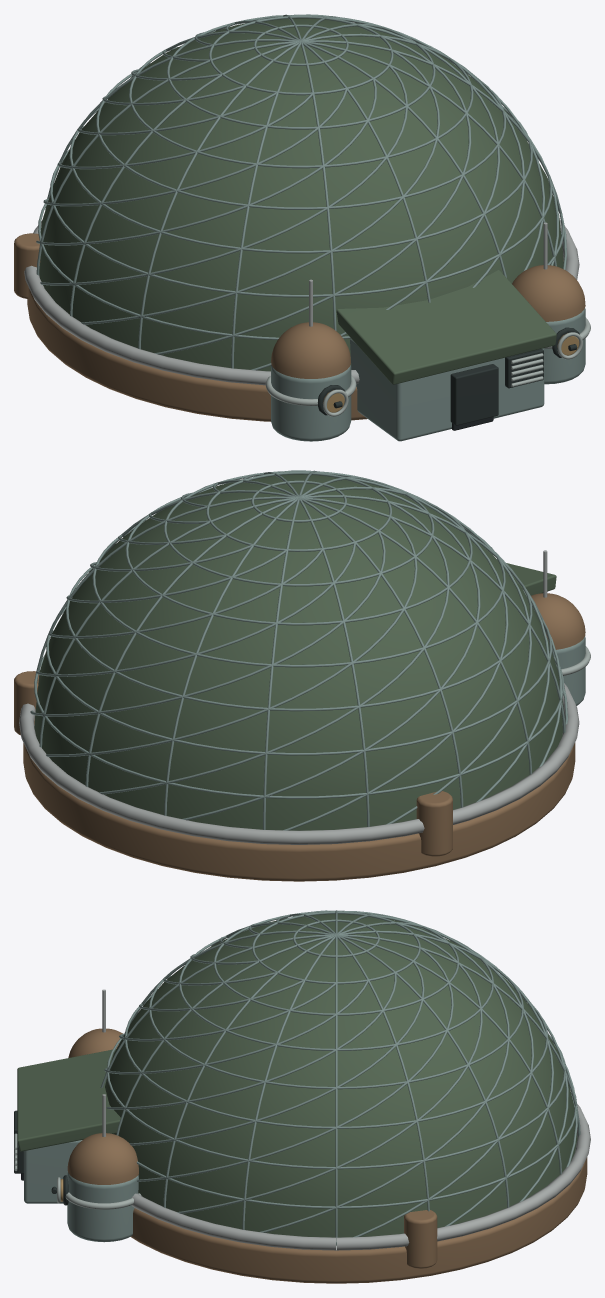
3 renders of one model, top to bottom at view 1: azimuth 30°, elevation 25°; view 2: azimuth 150°, elevation 25°; view 3: azimuth 270°, elevation 25°, orthographic. The views are drawn at different scales.
Parts seen in each view (by area): view 1: Hydroponics glazed hemisphere, Hydroponics glazed hemisphere triangular frame, Hydroponics annex sloped roof, Hydroponics foundation ring, Hydroponics service annex, Hydroponics dome base rim, Hydroponics annex tank, Hydroponics annex tank dome, Hydroponics annex tank dome.001, Hydroponic annex airlock, Hydroponics annex tank.001, Hydroponics rim service stub.001 (+2 smaller); view 2: Hydroponics glazed hemisphere, Hydroponics glazed hemisphere triangular frame, Hydroponics foundation ring, Hydroponics dome base rim, Hydroponics rim service stub.001, Hydroponics annex tank dome, Hydroponics annex tank, Hydroponics rim service stub, Hydroponics annex sloped roof; view 3: Hydroponics glazed hemisphere, Hydroponics glazed hemisphere triangular frame, Hydroponics foundation ring, Hydroponics annex sloped roof, Hydroponics dome base rim, Hydroponics annex tank.001, Hydroponics annex tank dome.001, Hydroponics service annex, Hydroponics rim service stub, Hydroponics annex tank dome, Hydroponic annex vessel band.001.
Boxes of the visible parts, <box> form: Hydroponics glazed hemisphere: <box>39,18,563,371</box>; Hydroponics glazed hemisphere triangular frame: <box>36,14,566,370</box>; Hydroponics annex sloped roof: <box>336,270,556,384</box>; Hydroponics foundation ring: <box>27,260,563,421</box>; Hydroponics service annex: <box>350,338,544,441</box>; Hydroponics dome base rim: <box>24,220,579,385</box>; Hydroponics annex tank: <box>271,365,351,441</box>; Hydroponics annex tank dome: <box>271,322,350,378</box>; Hydroponics annex tank dome.001: <box>512,265,585,321</box>; Hydroponic annex airlock: <box>450,364,498,425</box>; Hydroponics annex tank.001: <box>544,308,585,384</box>; Hydroponics rim service stub.001: <box>14,233,40,298</box>; Hydroponics glazed hemisphere: <box>34,474,563,830</box>; Hydroponics glazed hemisphere triangular frame: <box>30,470,567,830</box>; Hydroponics foundation ring: <box>23,718,575,881</box>; Hydroponics dome base rim: <box>19,683,579,844</box>; Hydroponics rim service stub.001: <box>416,791,452,856</box>; Hydroponics annex tank dome: <box>531,593,585,649</box>; Hydroponics annex tank: <box>556,636,585,705</box>; Hydroponics rim service stub: <box>14,671,39,735</box>; Hydroponics annex sloped roof: <box>506,563,556,595</box>; Hydroponics glazed hemisphere: <box>105,914,577,1237</box>; Hydroponics glazed hemisphere triangular frame: <box>100,910,580,1245</box>; Hydroponics foundation ring: <box>130,1157,587,1283</box>; Hydroponics annex sloped roof: <box>17,1049,120,1151</box>; Hydroponics dome base rim: <box>131,1103,590,1250</box>; Hydroponics annex tank.001: <box>67,1172,138,1242</box>; Hydroponics annex tank dome.001: <box>67,1133,138,1184</box>; Hydroponics service annex: <box>24,1140,82,1203</box>; Hydroponics rim service stub: <box>404,1210,437,1268</box>; Hydroponics annex tank dome: <box>68,1028,122,1057</box>; Hydroponic annex vessel band.001: <box>65,1192,141,1209</box>.
Bounding box in the file's own units: 3.33 × 1.77 × 3.78.
